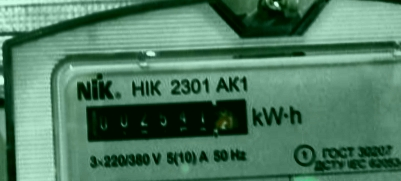0: (94, 109, 108, 131), (115, 106, 128, 128)
1: (194, 104, 206, 125)
2: (135, 107, 148, 127)
4: (175, 104, 188, 126)
5: (154, 105, 167, 127)
6: (216, 116, 228, 131)
screen: (73, 88, 257, 150)
